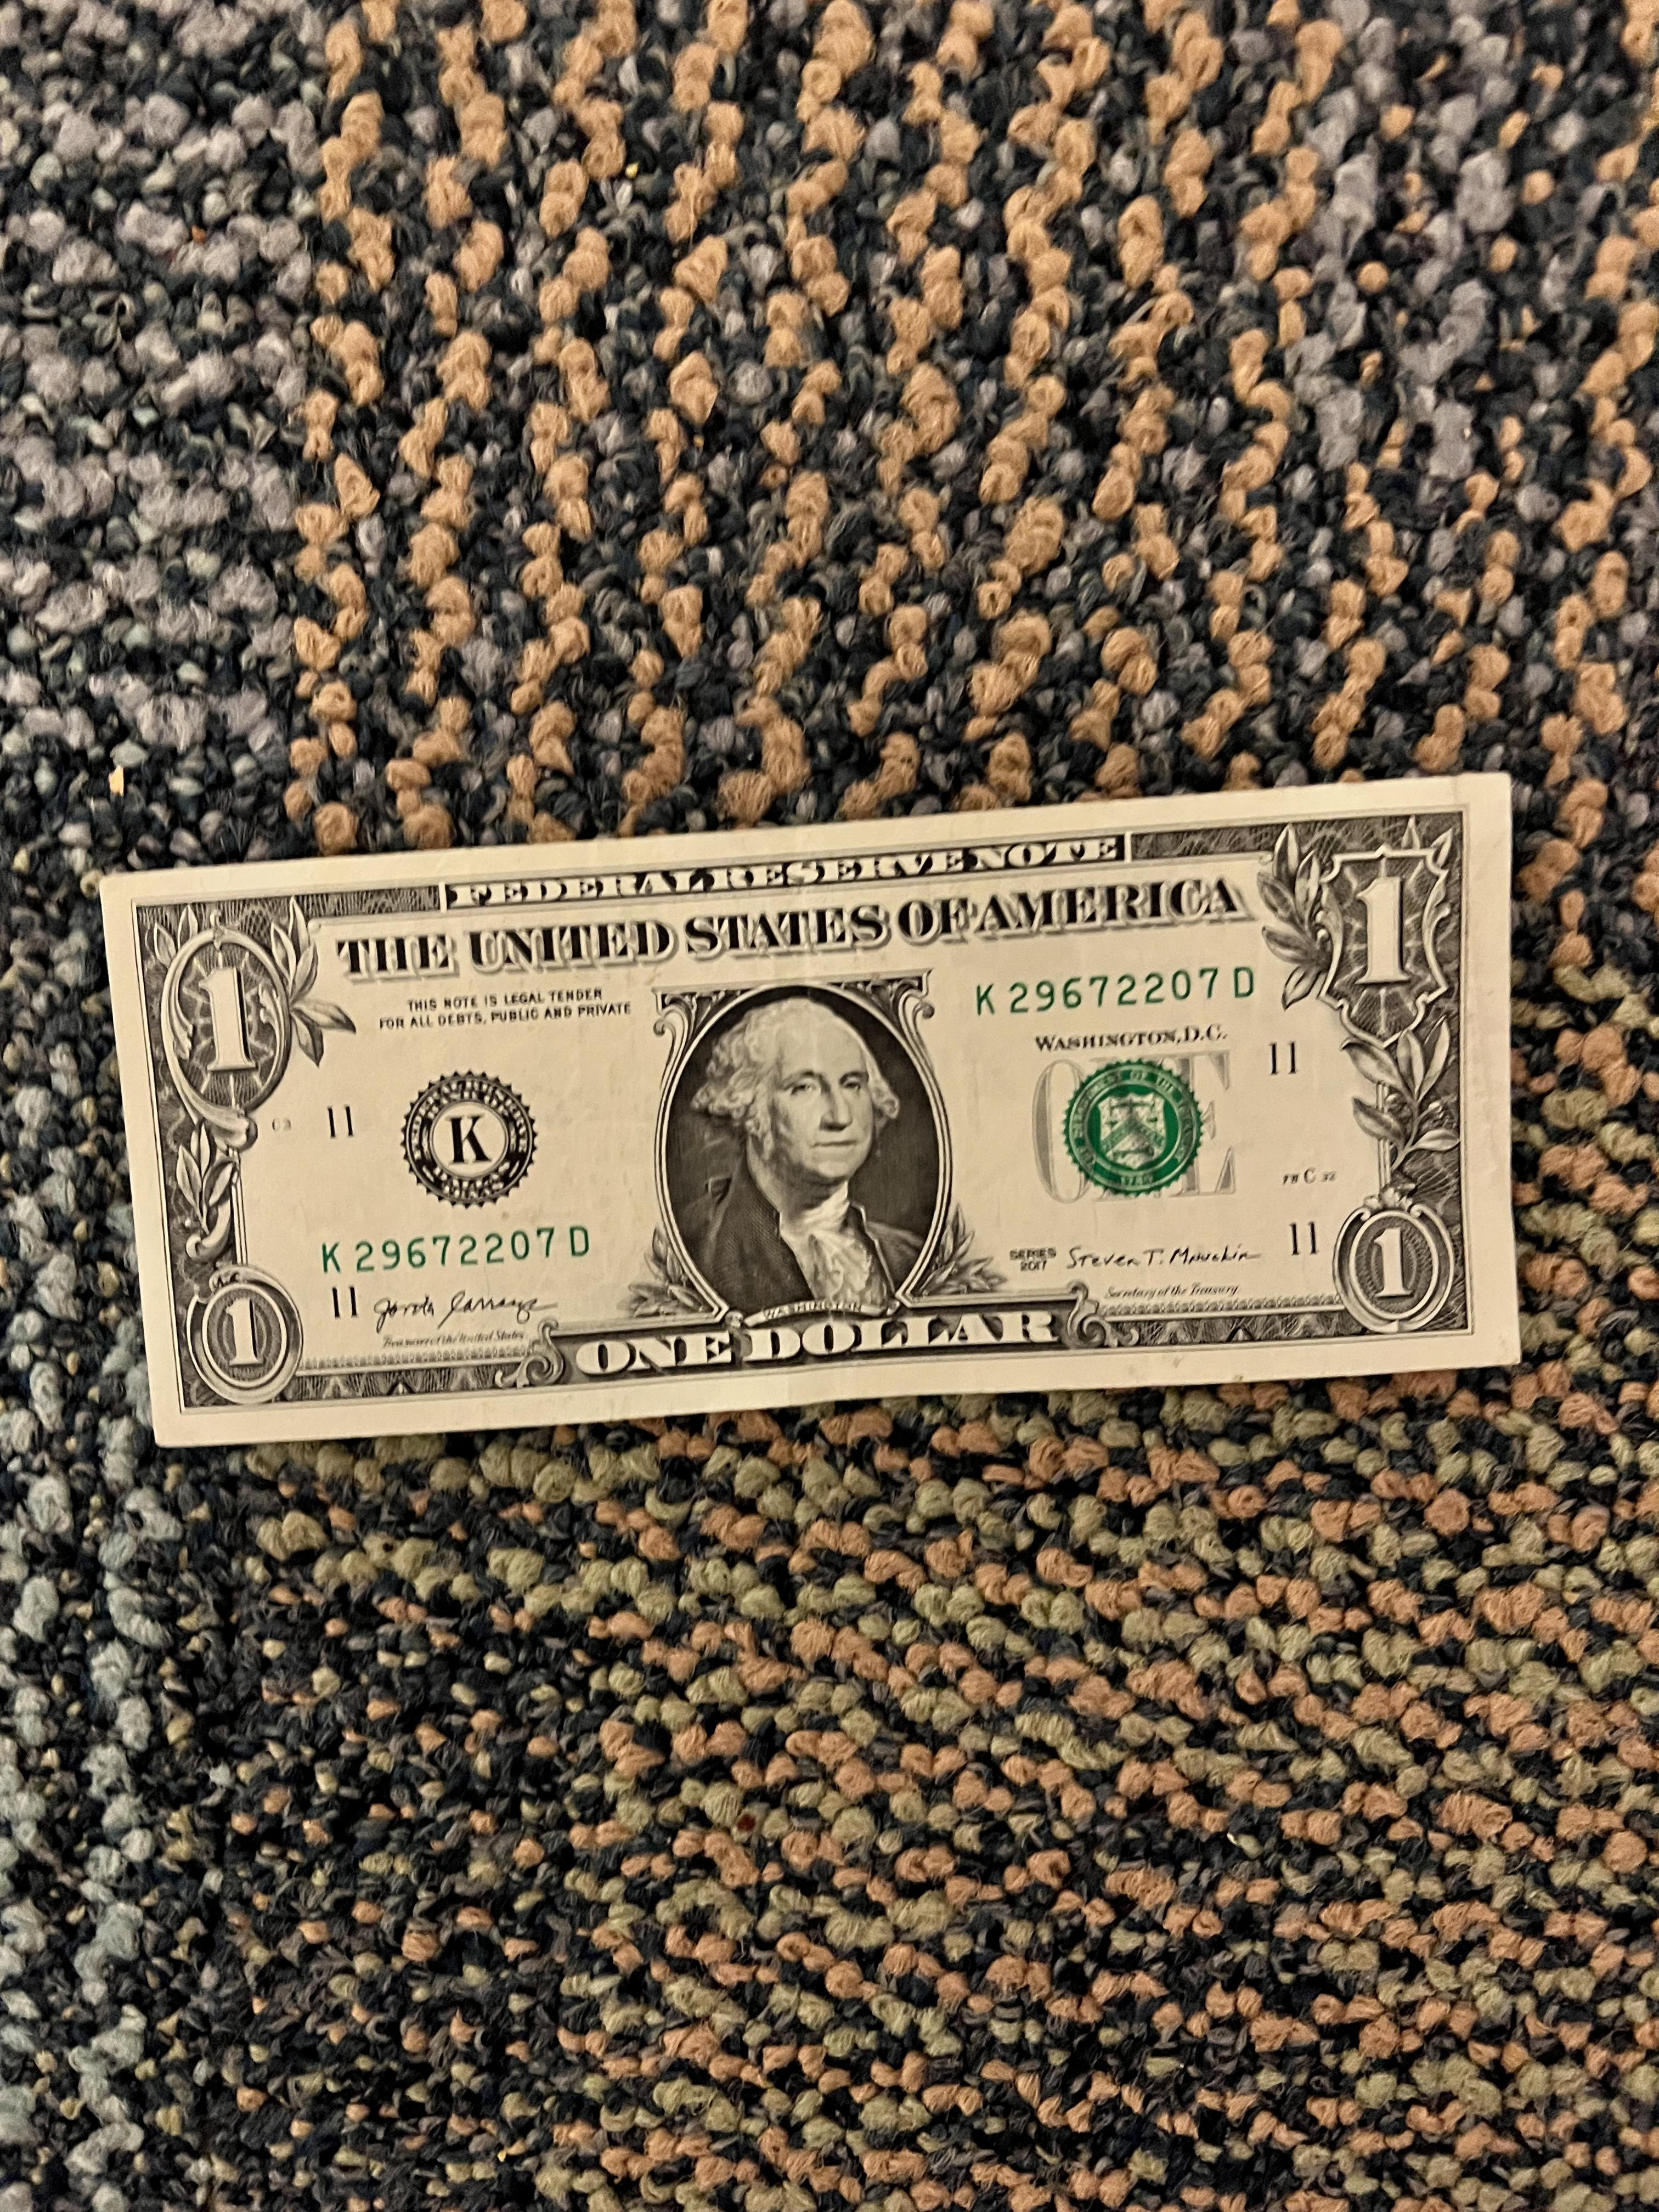OneBill: (108, 786, 1563, 1512)
